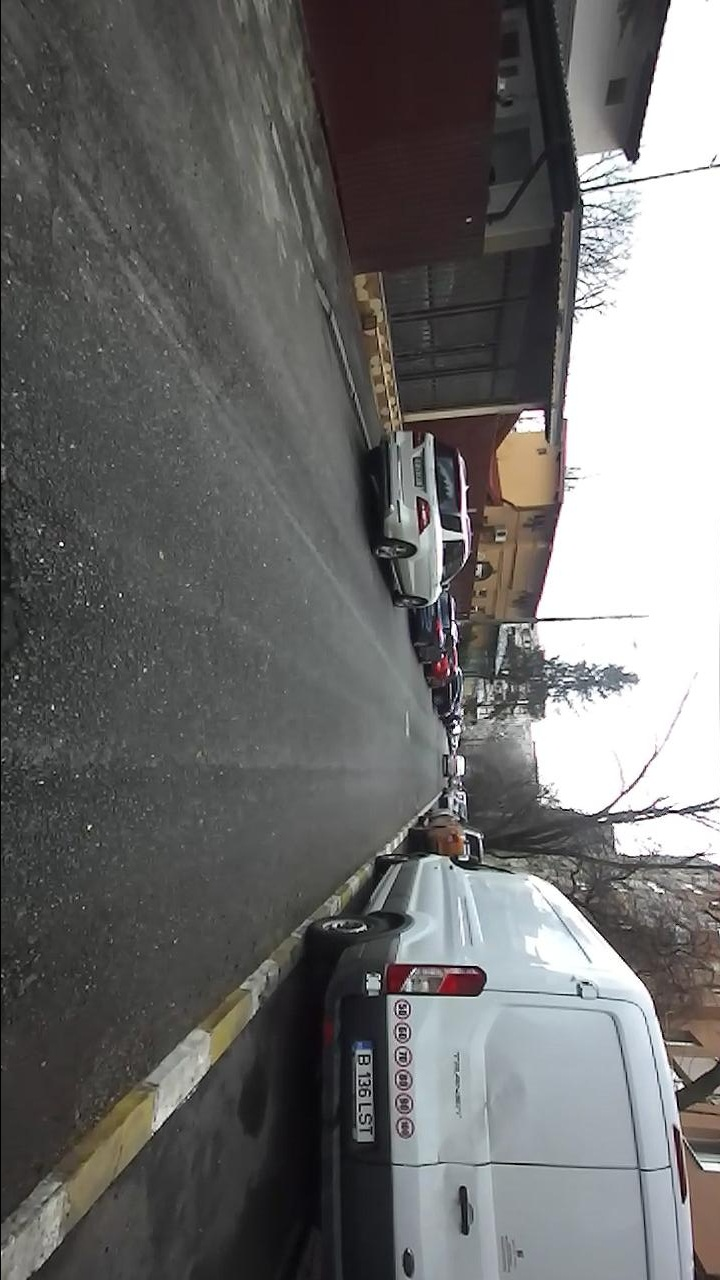pothole: (0, 481, 19, 710)
